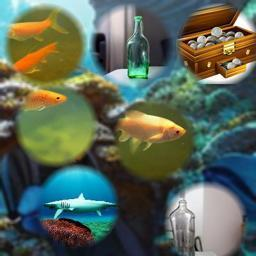not an animal: (117, 13, 164, 83), (168, 195, 201, 256)
treasure: (178, 3, 255, 81)
